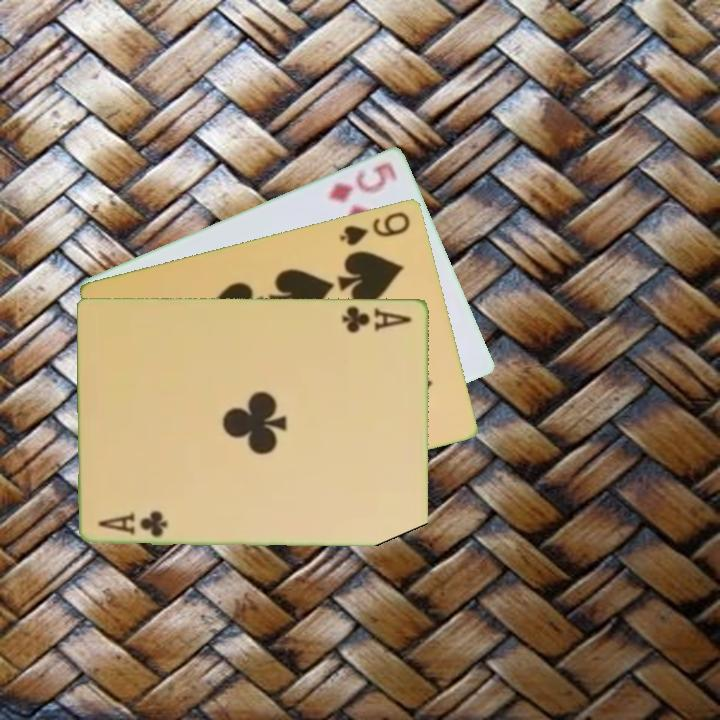5d: (324, 158, 401, 205)
9s: (336, 207, 414, 248)
Ac: (338, 302, 415, 336), (95, 506, 171, 539)
